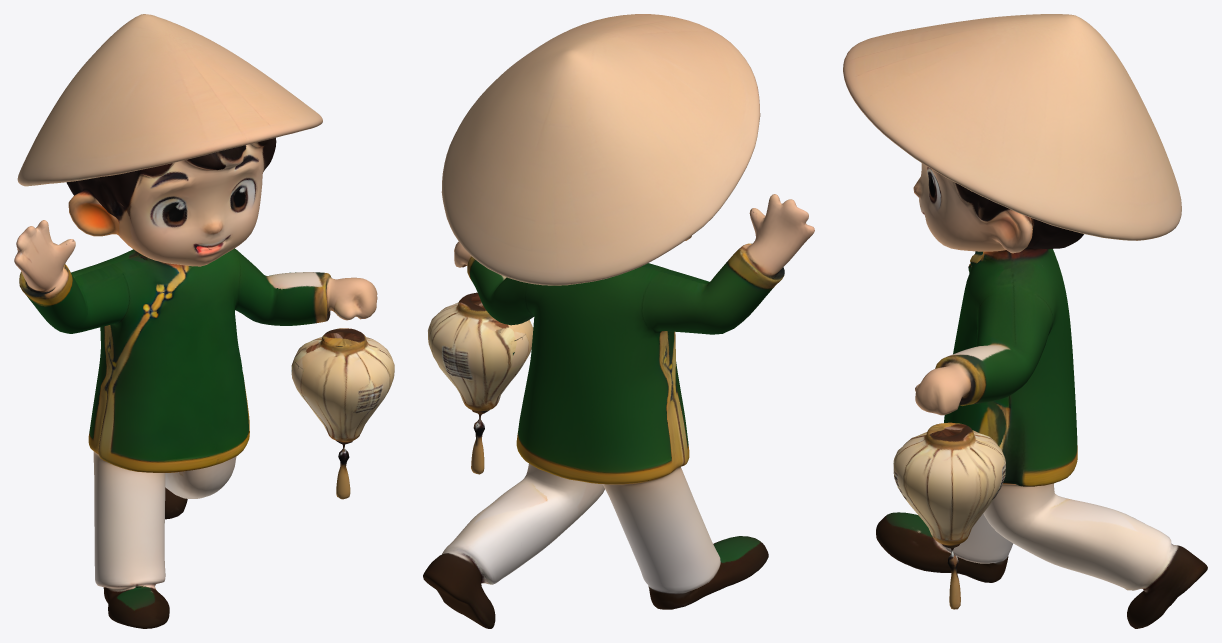
File: nibi-pho-co-hoa-lu-v3.glb
The picture shows the model from 3 angles, left to right: view 1: azimuth 30°, elevation 25°; view 2: azimuth 150°, elevation 25°; view 3: azimuth 270°, elevation 25°; orthographic projection. The views are drawn at different scales.
Visible parts, largest first — view 1: Nibi_PhoCoHoaLu_v3; view 2: Nibi_PhoCoHoaLu_v3; view 3: Nibi_PhoCoHoaLu_v3.
Boxes of the visible parts, x1=… form: Nibi_PhoCoHoaLu_v3: x1=14, y1=14, x2=394, y2=628; Nibi_PhoCoHoaLu_v3: x1=423, y1=14, x2=814, y2=628; Nibi_PhoCoHoaLu_v3: x1=843, y1=14, x2=1207, y2=628.
Size of the model in its own units: 1.34 by 1.9 by 1.07.
1 material, 1 textured.
